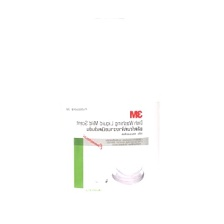cleaning_solution: (53, 4, 166, 221)
